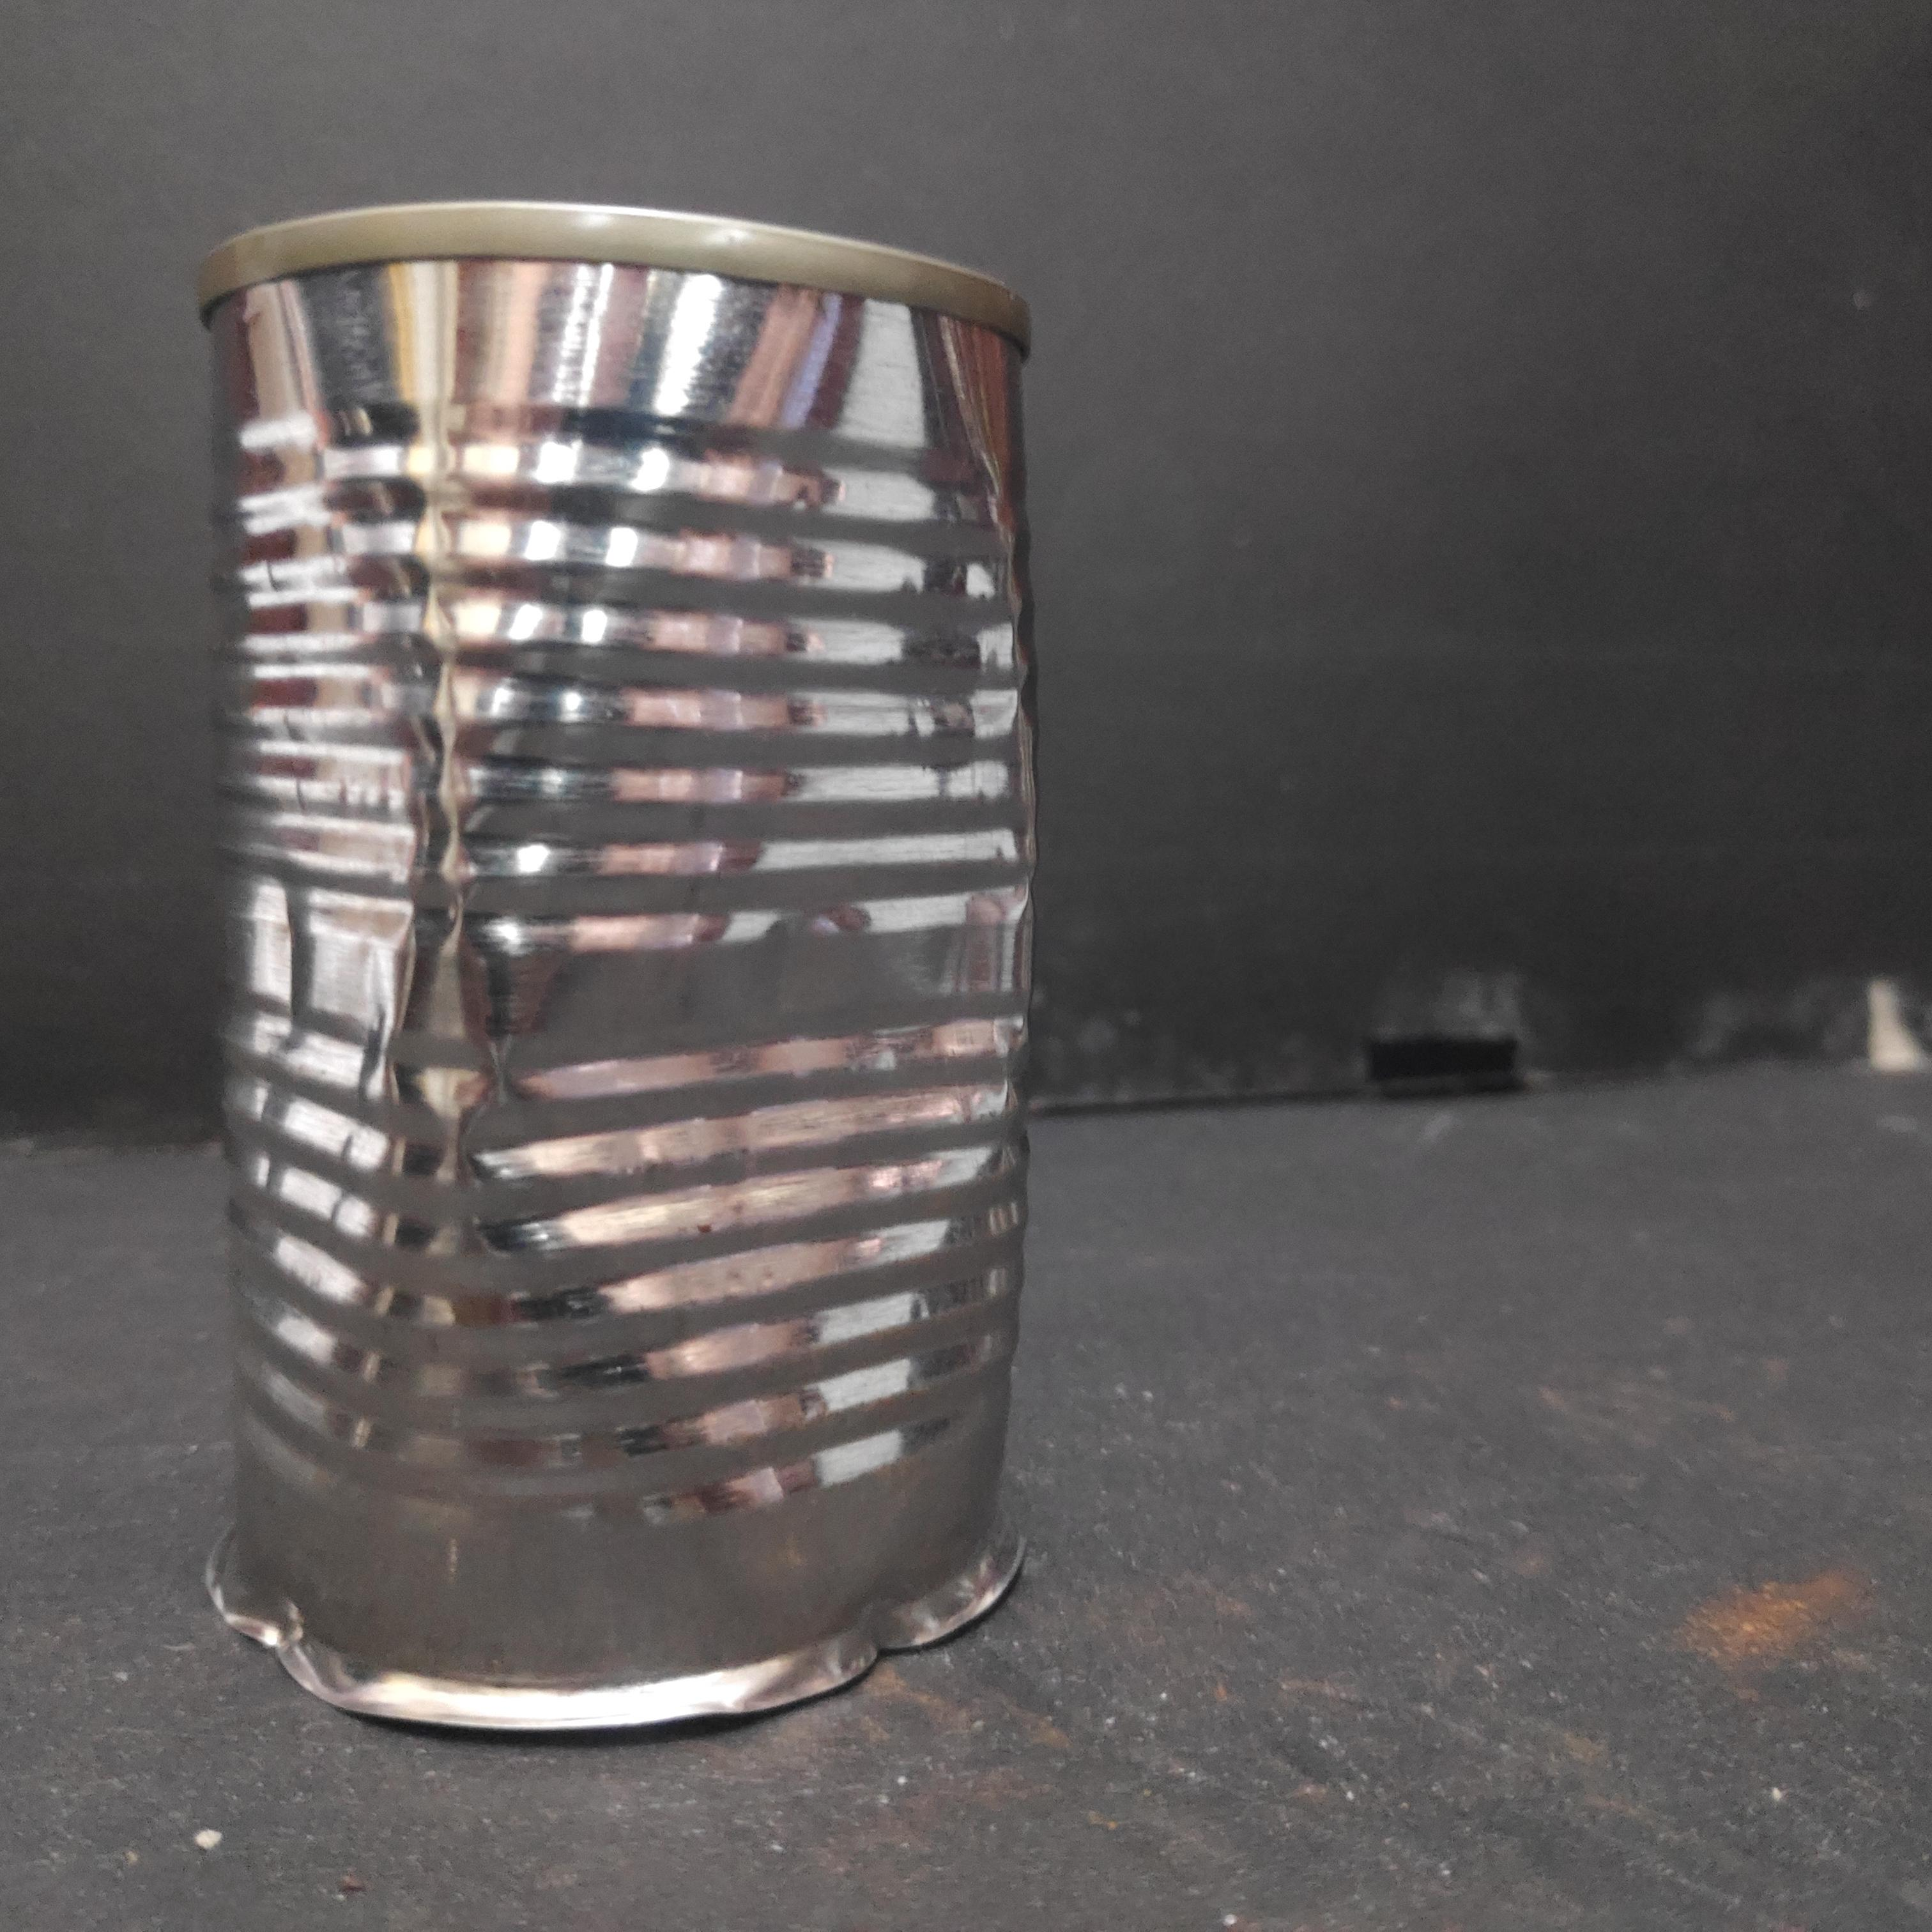Minor Defect: (184, 186, 1056, 1755)
